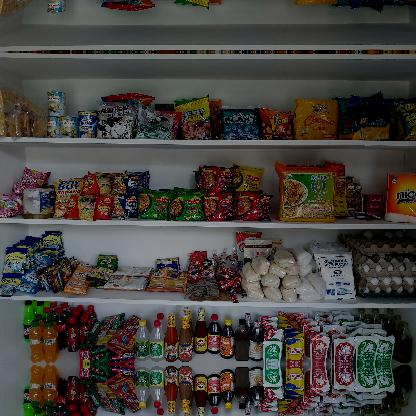Lady-s-Choice: (22, 188, 56, 218)
